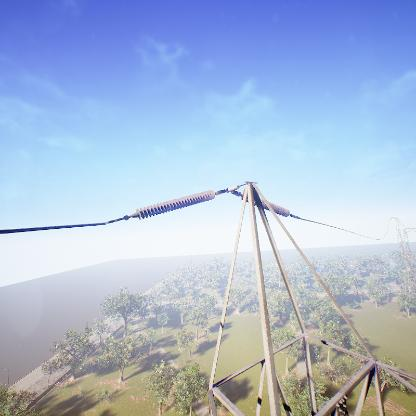insulator: (135, 188, 216, 220)
